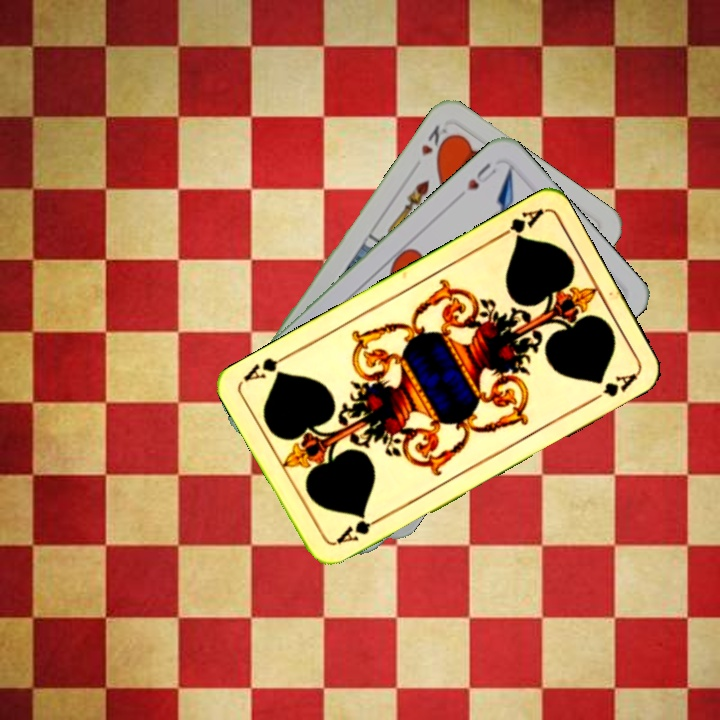GA: (491, 205, 546, 243), (330, 512, 385, 547)
HK: (417, 120, 456, 160)
HU: (462, 159, 500, 193)
